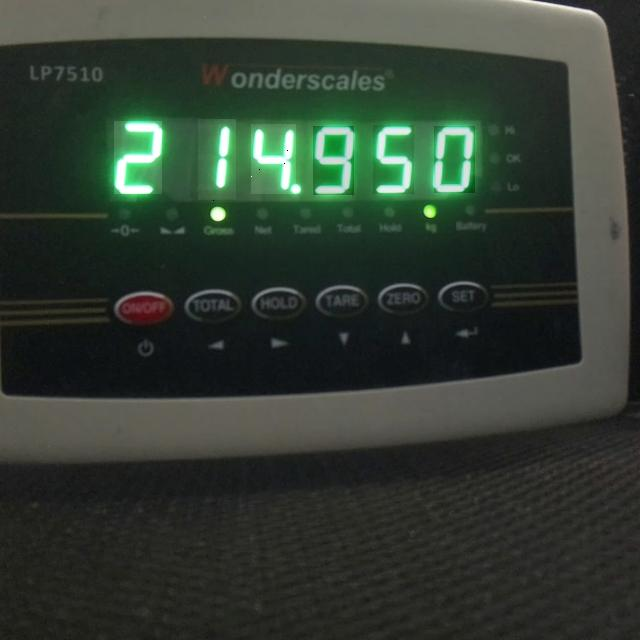.: (290, 184, 301, 194)
0: (434, 126, 475, 193)
1: (198, 120, 236, 202)
2: (114, 121, 162, 194)
4: (251, 124, 296, 194)
5: (373, 125, 414, 194)
9: (313, 126, 354, 195)
